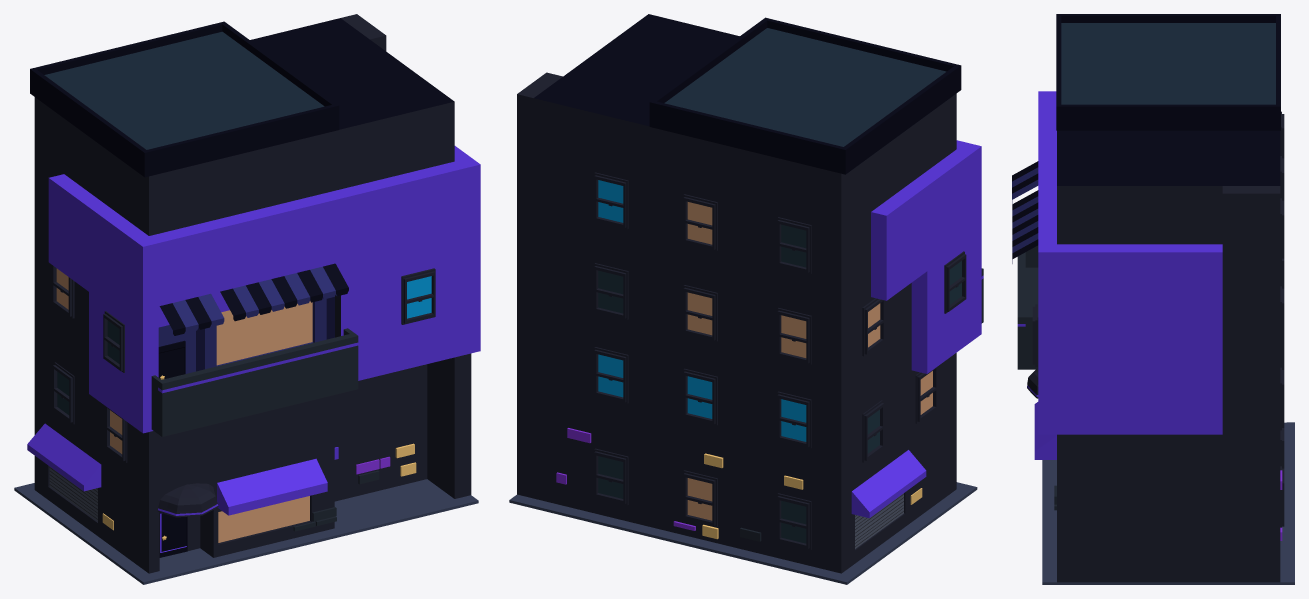
Rendered from Building_MintApartment03.fbx.
3 renders of one model, left to right at view 1: azimuth 30°, elevation 25°; view 2: azimuth 150°, elevation 25°; view 3: azimuth 270°, elevation 25°, orthographic. The views are drawn at different scales.
Parts seen in each view (by area): view 1: Cube.774, Cube.775, Cube.776; view 2: Cube.774; view 3: Cube.774.
Part boxes in pixels (left/top/right/bottom): Cube.774: left=14, top=14, right=480, bottom=584; Cube.775: left=159, top=512, right=187, bottom=557; Cube.776: left=158, top=340, right=185, bottom=378; Cube.774: left=509, top=14, right=983, bottom=584; Cube.774: left=1012, top=14, right=1294, bottom=584.
Size of the model in its own units: 1018 by 1211 by 747.
